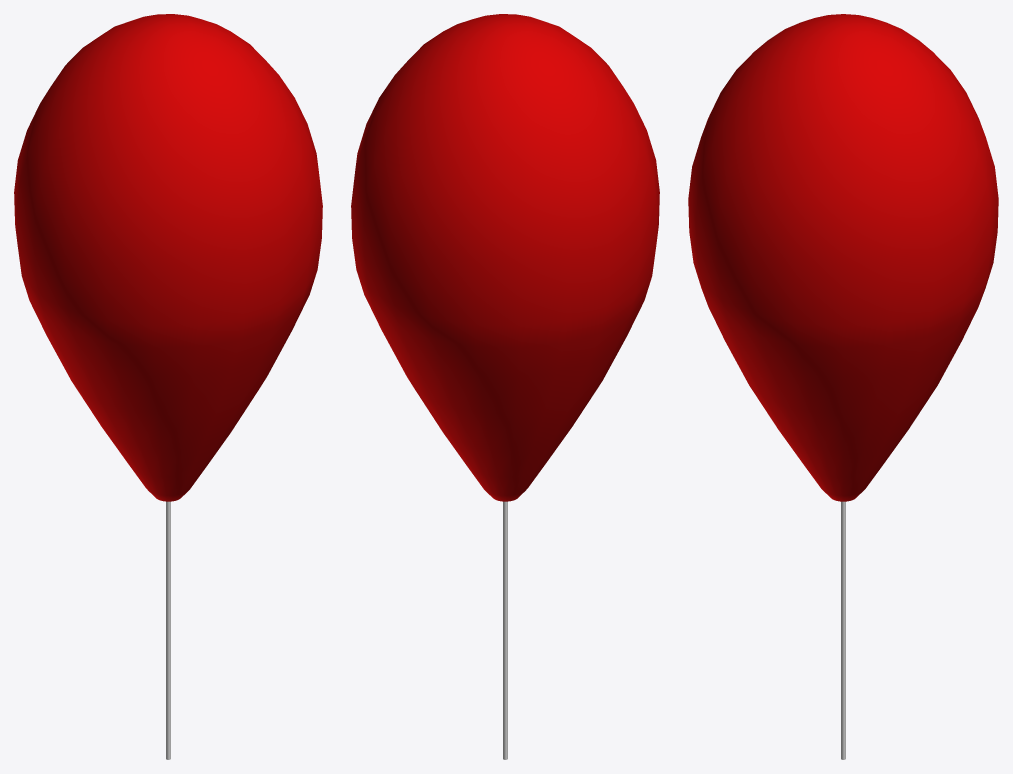
Rendered from BalloonUnity.fbx.
The picture shows the model from 3 angles, left to right: view 1: azimuth 30°, elevation 25°; view 2: azimuth 150°, elevation 25°; view 3: azimuth 270°, elevation 25°; orthographic projection.
Parts seen in each view (by area): view 1: pSphere1, pCylinder1; view 2: pSphere1, pCylinder1; view 3: pSphere1, pCylinder1.
Part boxes in pixels (x1,y1,x2,y2): pSphere1: [14, 14, 322, 501]; pCylinder1: [166, 501, 170, 759]; pSphere1: [351, 14, 659, 501]; pCylinder1: [503, 501, 507, 759]; pSphere1: [688, 14, 998, 501]; pCylinder1: [841, 501, 845, 759].
Size of the model in its own units: 9.15 by 23.89 by 9.15.
